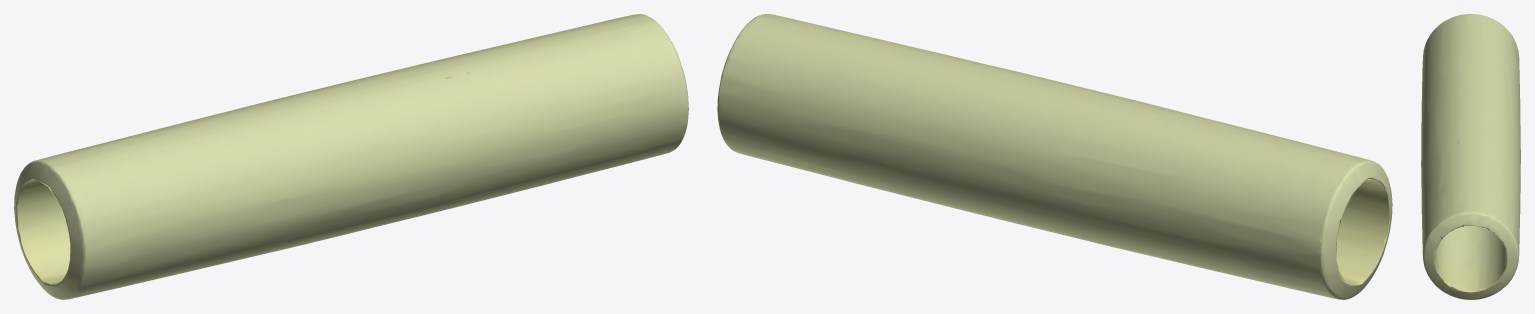
Rendered from Part_LactealTube.glb.
The picture shows the model from 3 angles, left to right: view 1: azimuth 30°, elevation 25°; view 2: azimuth 150°, elevation 25°; view 3: azimuth 270°, elevation 25°; orthographic projection. The views are drawn at different scales.
Size of the model in its own units: 1.9 by 0.3953 by 0.3935.
1 material, 1 textured.
